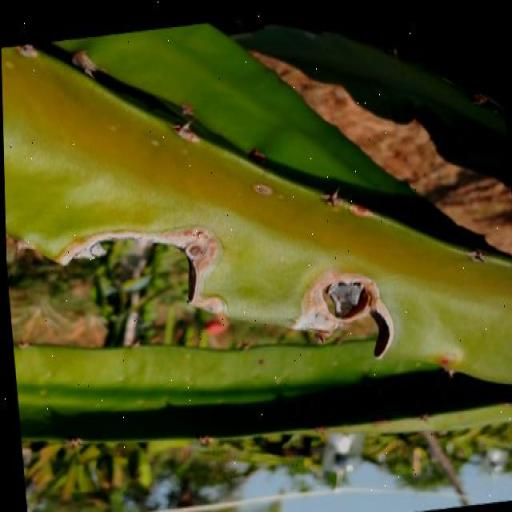stemcanker: (213, 254, 225, 294)
